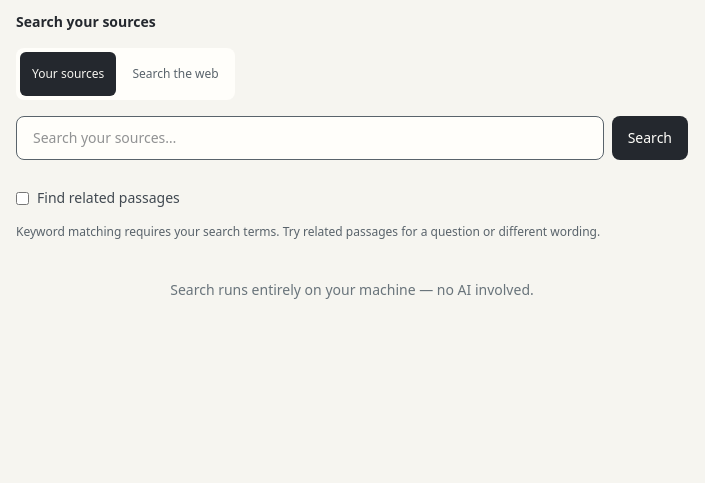
it: keeps the count region mounted with an honest zero count on empty results
This screenshot has width=705, height=483.
In the search field with placeholder "Search your sources…": (310, 138) [16,116,604,160], type "nothinghere"
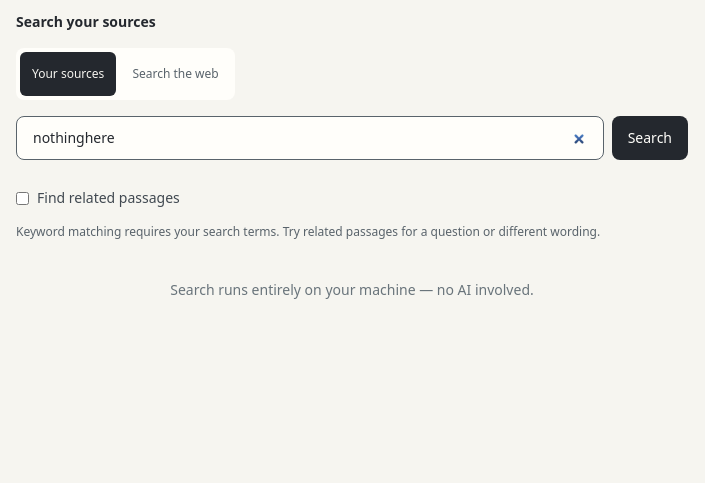
Click the button with aria-label "submit search": (650, 138) [612,116,688,160]
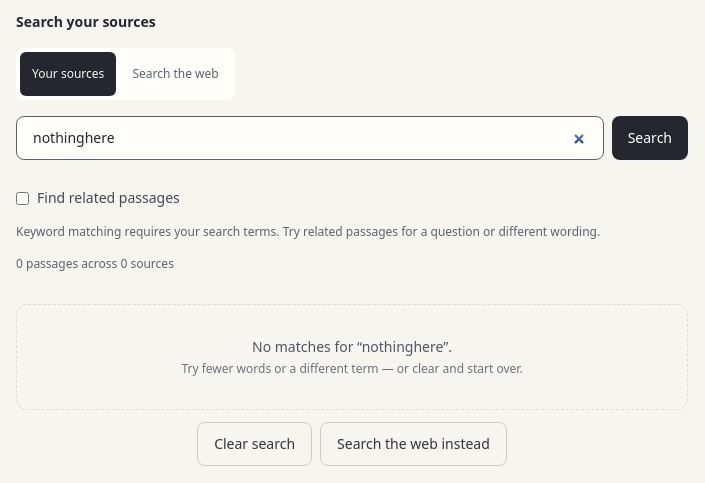
Check: the message named "Search result count" reads "0 passages across 0 sources", box [16,255,174,272]
